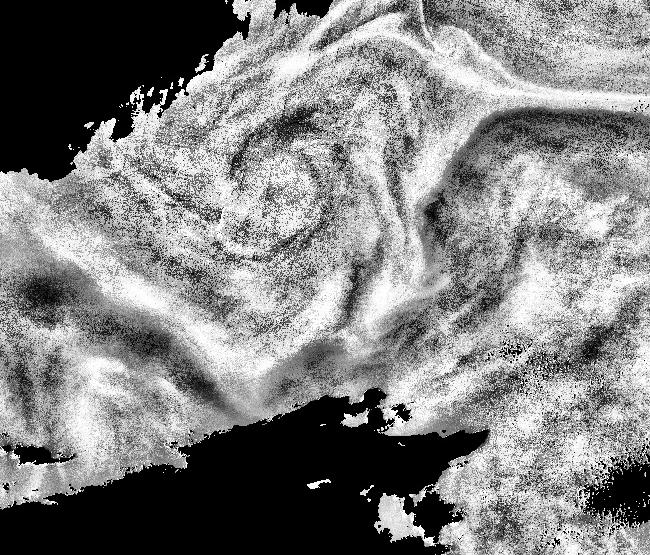CE: (72, 21, 466, 379)
